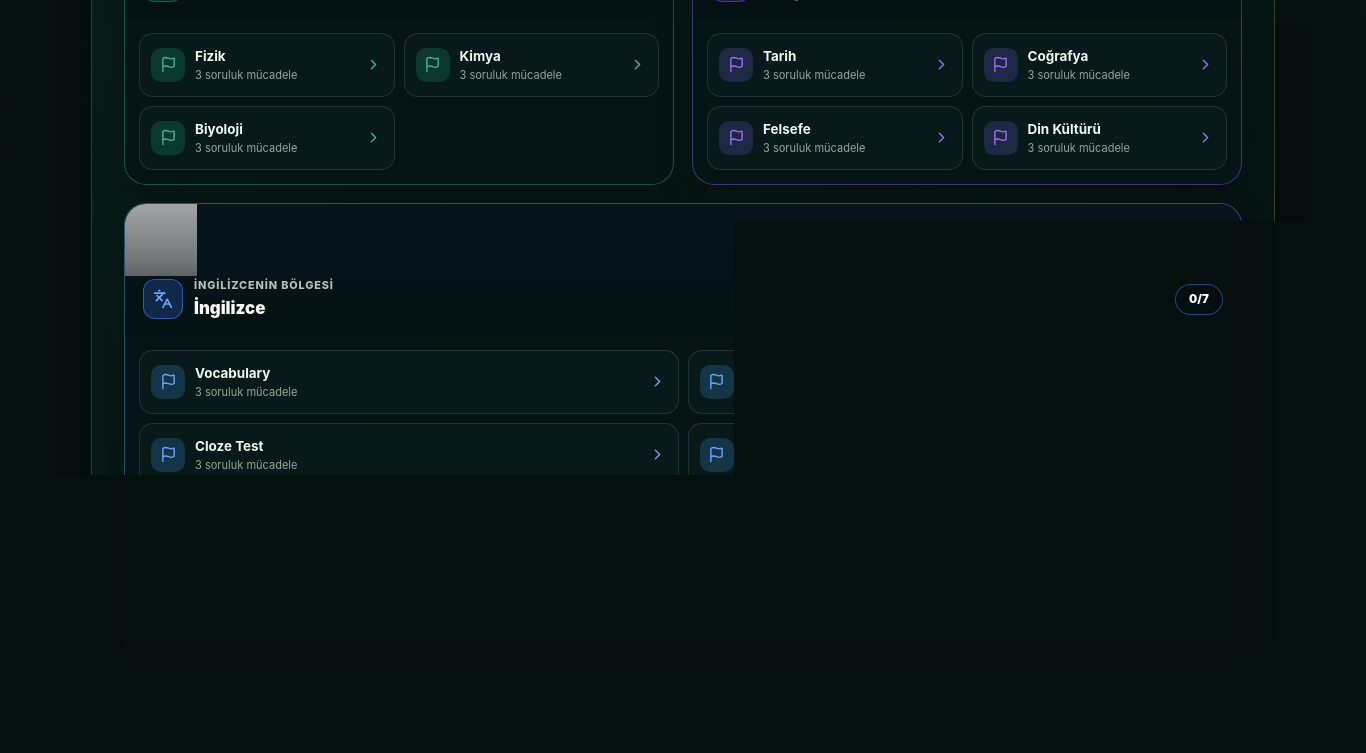
it: FethetClient — wordquest (İngilizce) akışı › wordquest sentence alanını soru metni olarak basar (fix öncesi boştu)
(page scrolled)
Click the button "Vocabulary 3 soruluk mücadele" at (168, 382), box [139,350,678,414]
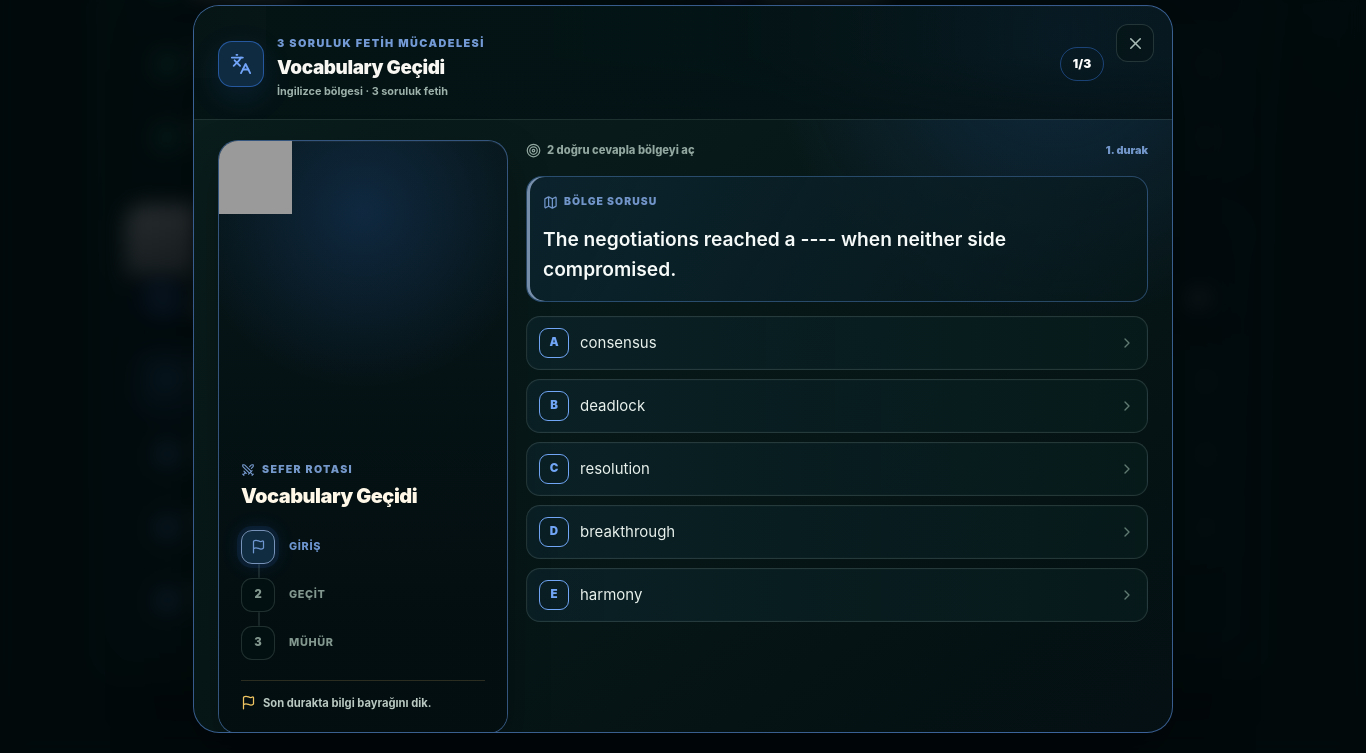
Result: the text "The negotiations reached a" is shown at [543,227,1006,281]
